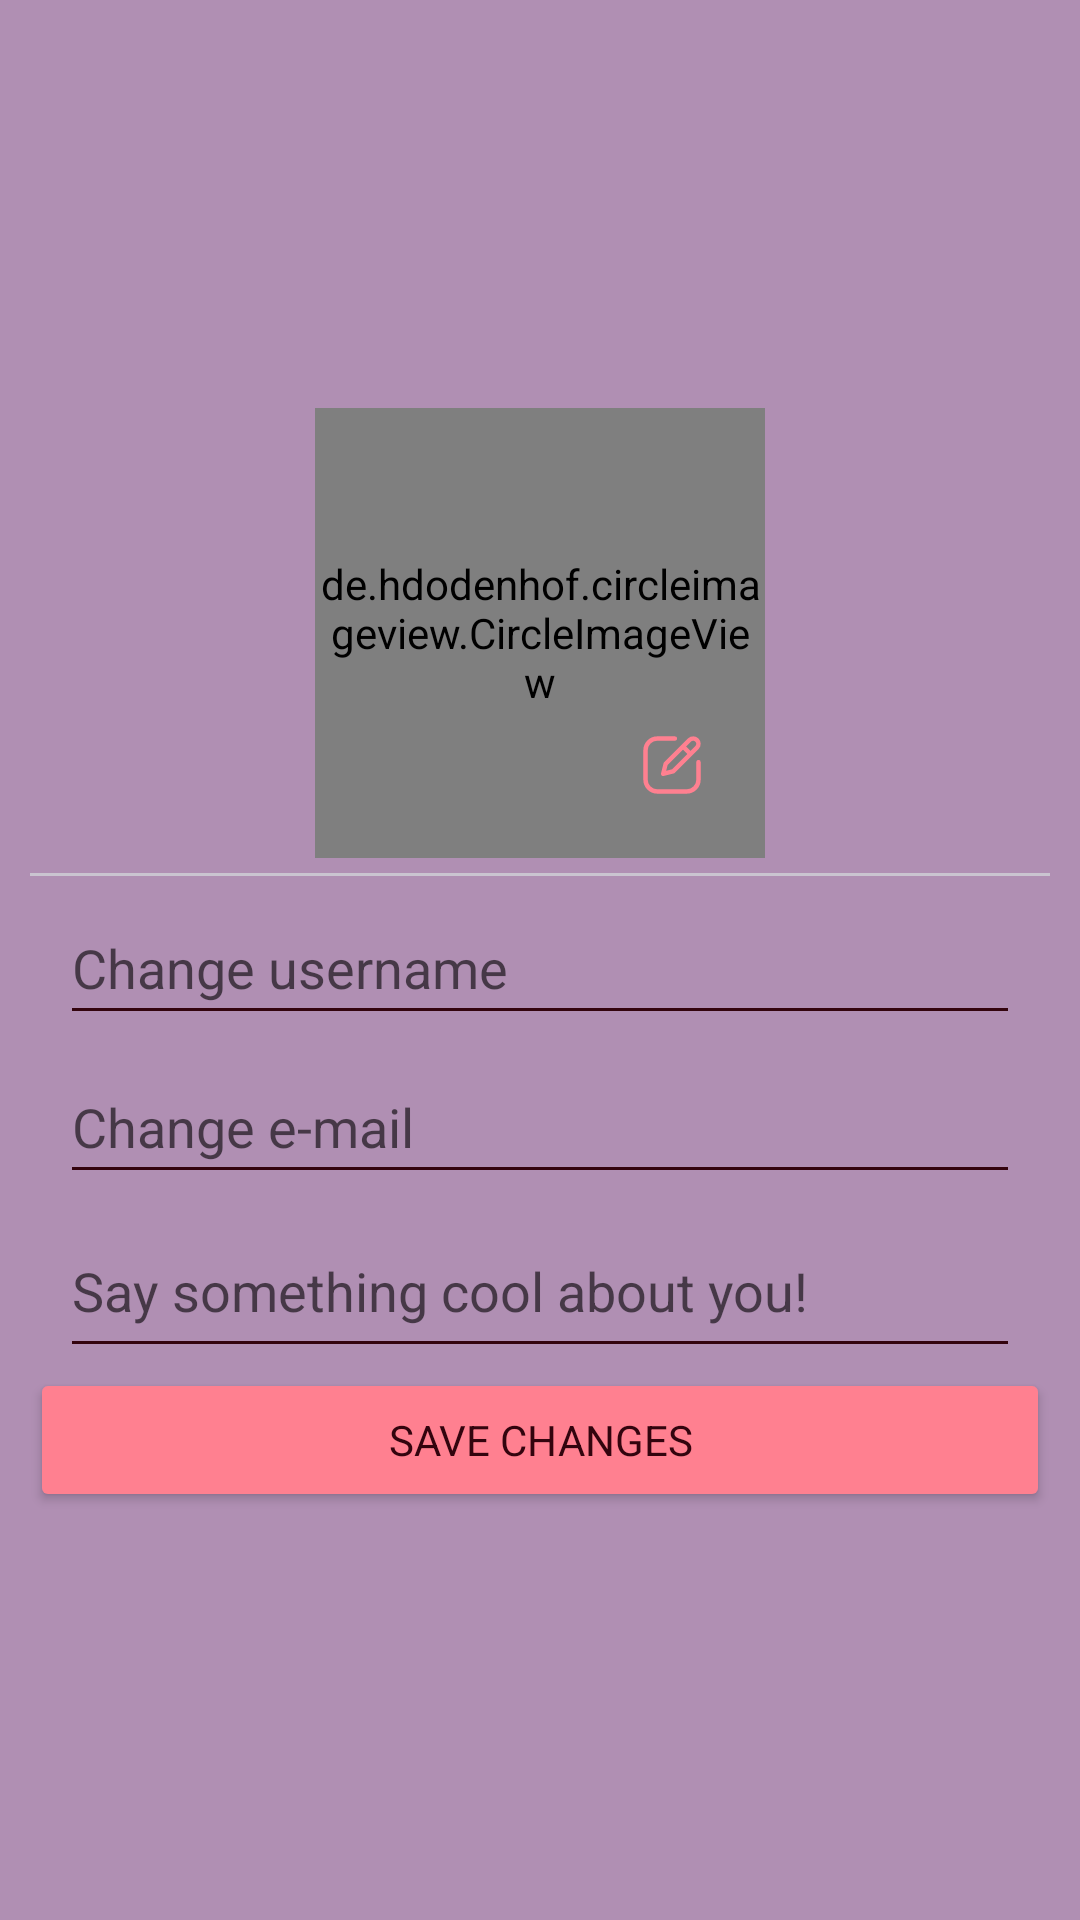

Where to tap for icons on this 1080x1920 app screen, as [x,y]:
ui edit: [672,765]
